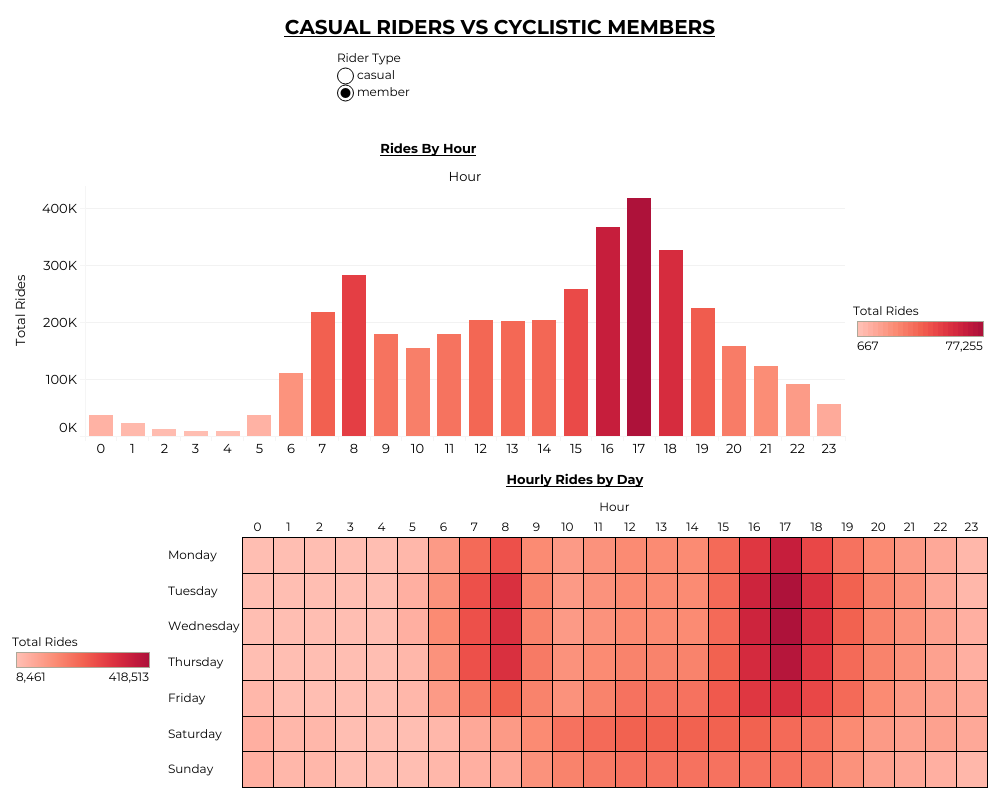

The page's visual inventory and layout, read from the dashboard file:
{"tool":"tableau","page":{"name":"Dashboard 2","canvas":[1000,800],"ordinal":1},"visuals":[{"type":"text","box":[8,8,984,37.5]},{"type":"blank","box":[8,45.5,325,84.5]},{"type":"filter","title":"Rides By Hour","param":"[federated.1kjub821o2anqe1h8123z1yxfob3].[none:rider_type:nk]","box":[333,45.5,333,84.5]},{"type":"blank","box":[666,45.5,326,84.5]},{"type":"worksheet","title":"Rides By Hour","mark":"Bar","rows":["total_rides"],"cols":["hour"],"box":[8,130,841,331]},{"type":"blank","box":[849,130,143,165.5]},{"type":"legend","title":"Hourly Rides by Day","param":"[federated.0nan1l90aavoxx16ju13i1p57lra].[sum:total_rides:qk]","box":[849,295.5,143,165.5]},{"type":"blank","box":[8,461,150,165.5]},{"type":"worksheet","title":"Hourly Rides by Day","mark":"Square","rows":["day_of_week"],"cols":["hour"],"box":[158,461,834,331]},{"type":"legend","title":"Rides By Hour","param":"[federated.1kjub821o2anqe1h8123z1yxfob3].[sum:total_rides:qk]","box":[8,626.5,150,165.5]}]}

Visuals, with their boxes in screenshot pixels (x1, y1, x2, y2), scaled from the page's 1000x800 canvas onto the 999x799 screenshot:
text: bbox(8, 8, 991, 45)
blank: bbox(8, 45, 333, 130)
"Rides By Hour" filter: bbox(333, 45, 665, 130)
blank: bbox(665, 45, 991, 130)
"Rides By Hour" worksheet (Bar marks): bbox(8, 130, 848, 460)
blank: bbox(848, 130, 991, 295)
"Hourly Rides by Day" legend: bbox(848, 295, 991, 460)
blank: bbox(8, 460, 158, 626)
"Hourly Rides by Day" worksheet (Square marks): bbox(158, 460, 991, 791)
"Rides By Hour" legend: bbox(8, 626, 158, 791)
